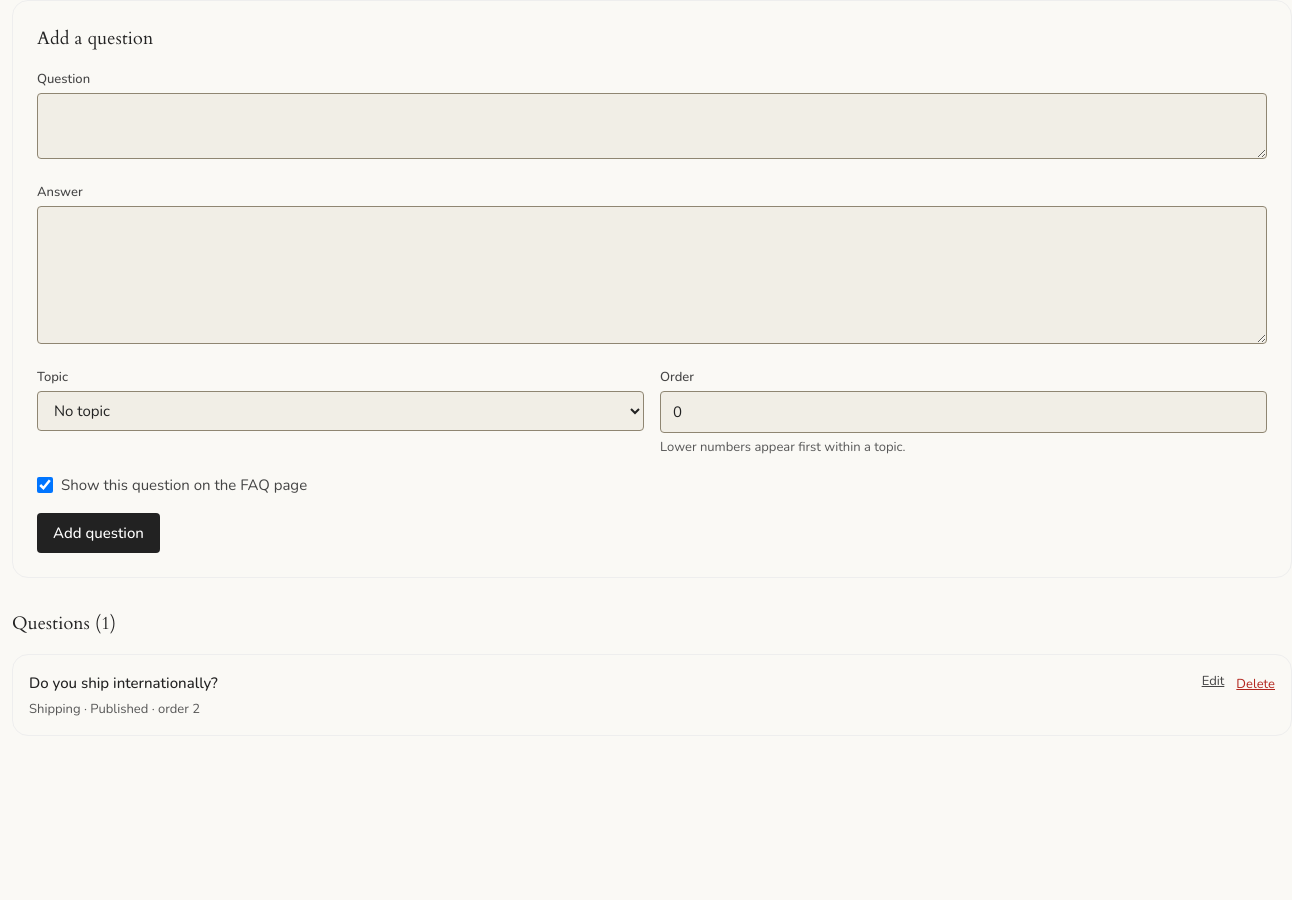
Test case: FaqEditor › loads a chosen question into the form, with its id attached
Expected: the text box labelled "Question" is empty, [37,93,1267,159]
Click the button "Edit".
click(1213, 681)  # box [1202,671,1224,691]
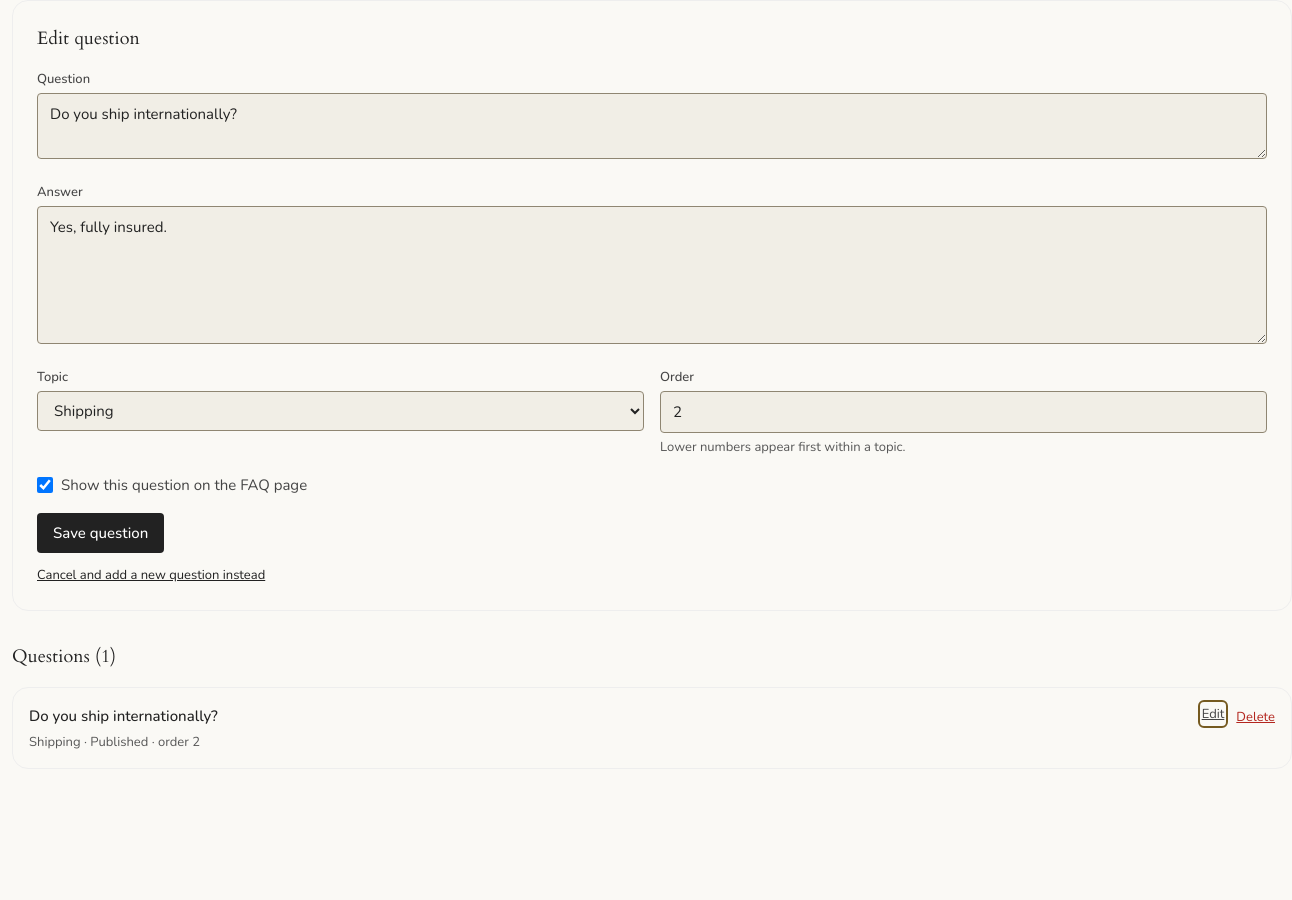
Expected: the heading "Edit question" is shown, [37,26,140,51]
Expected: the text box labelled "Question" holds "Do you ship internationally?", [37,93,1267,159]
Expected: the text box labelled "Answer" holds "Yes, fully insured.", [37,206,1267,344]
